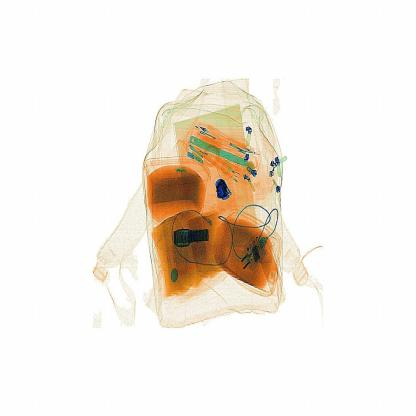scissors: (208, 170, 239, 207)
